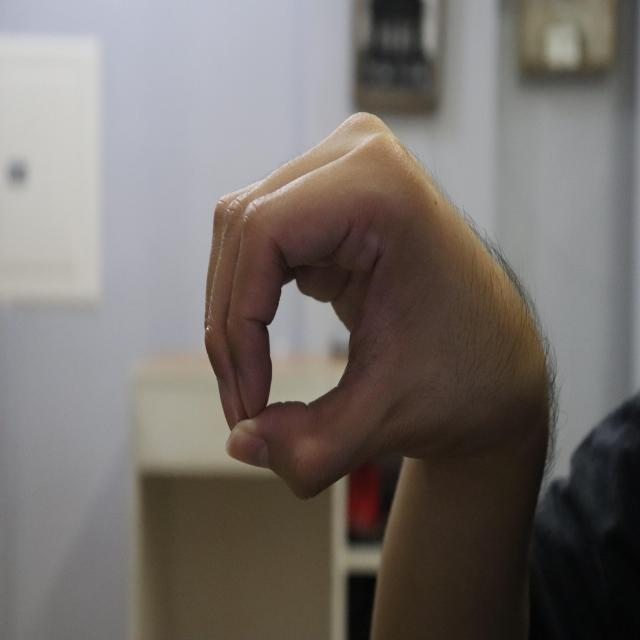O: (203, 109, 552, 502)
